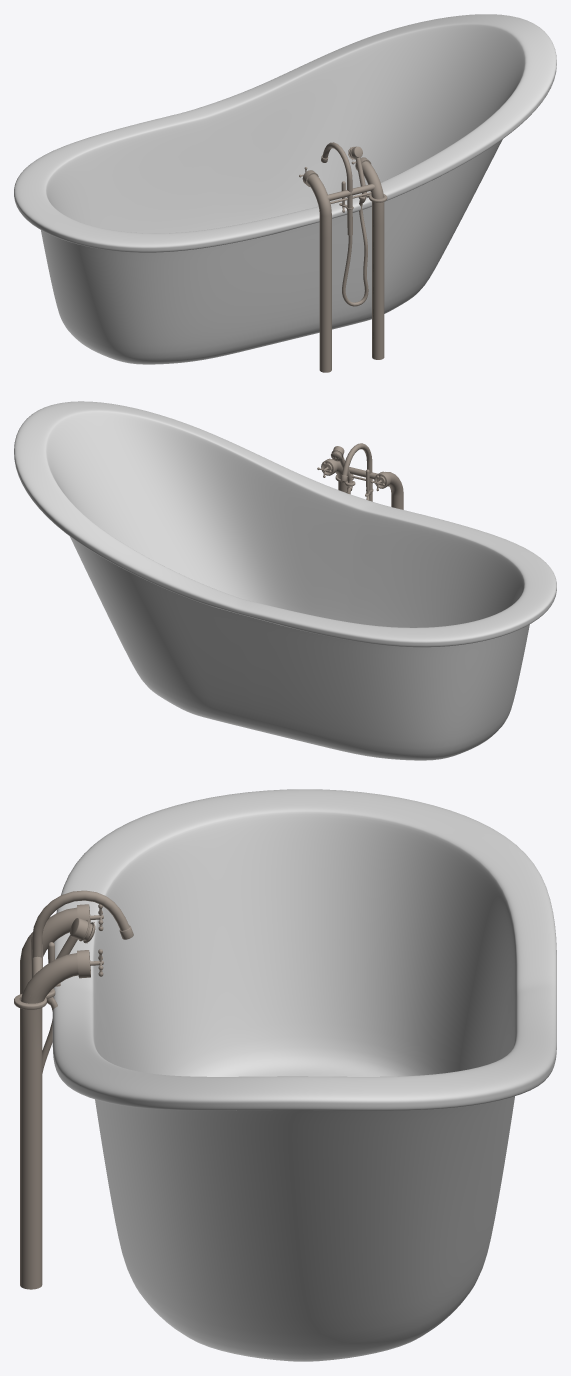
File: Bathtub_11.5.fbx
3 renders of one model, top to bottom at view 1: azimuth 30°, elevation 25°; view 2: azimuth 150°, elevation 25°; view 3: azimuth 270°, elevation 25°, orthographic. The views are drawn at different scales.
Visible parts, largest first — view 1: Bathtub, Pipe; view 2: Bathtub, Pipe; view 3: Bathtub, Pipe.
Part boxes in pixels (x1,y1,x2,y2): Bathtub: [14, 14, 556, 364]; Pipe: [299, 142, 387, 372]; Bathtub: [14, 401, 556, 760]; Pipe: [317, 443, 403, 509]; Bathtub: [52, 789, 556, 1361]; Pipe: [14, 890, 133, 1289].
Bounding box in the file's own units: 431 × 180 × 226.
